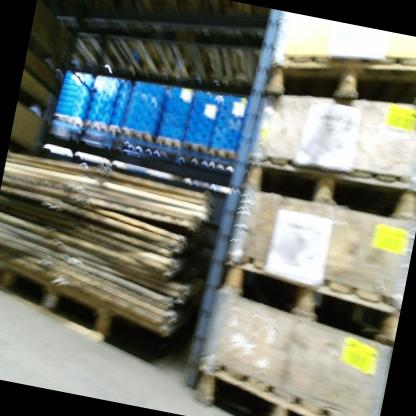pallet: (213, 235, 407, 348), (259, 28, 416, 134), (237, 140, 416, 228), (182, 357, 383, 416), (0, 264, 125, 337), (48, 110, 70, 147), (190, 136, 209, 163), (221, 146, 244, 168), (164, 138, 183, 161), (131, 128, 154, 146), (180, 138, 197, 162), (117, 121, 137, 141), (205, 143, 223, 164), (152, 132, 169, 153), (66, 112, 83, 131), (105, 120, 122, 139), (90, 120, 109, 135), (81, 116, 92, 132)
